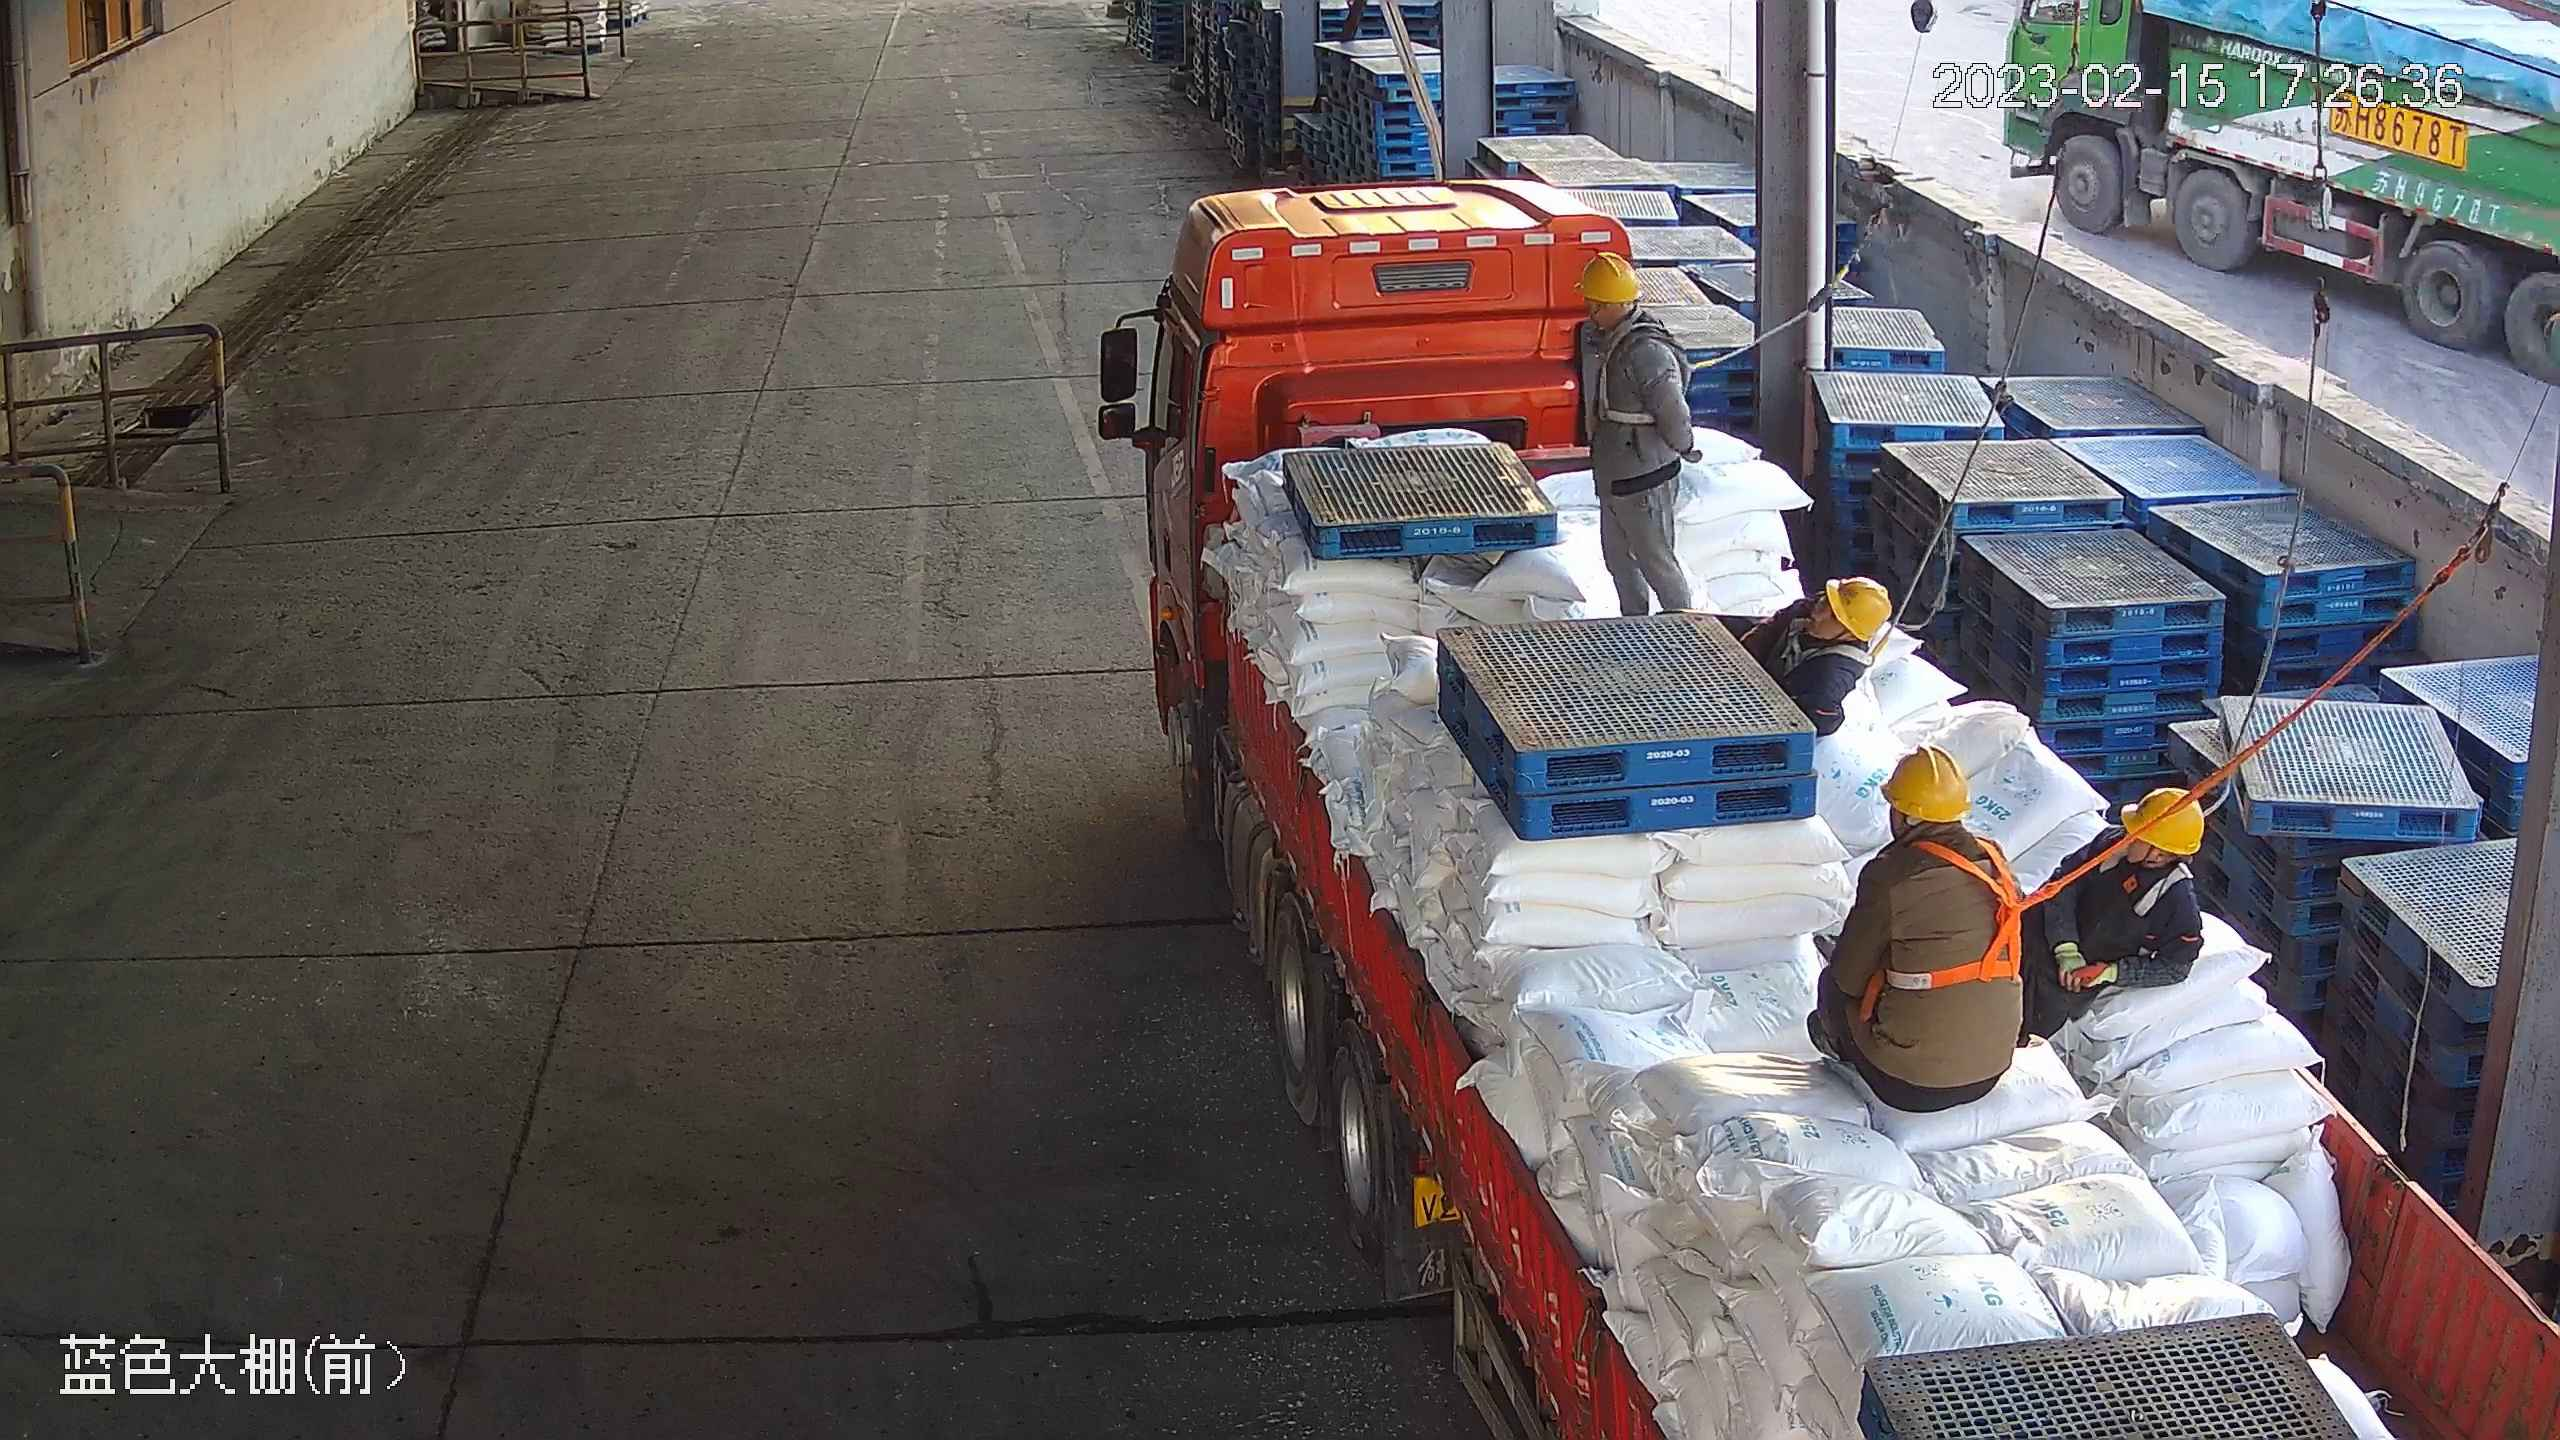belt: (1893, 844, 2053, 983), (1595, 327, 1695, 429), (2104, 858, 2197, 920), (1792, 632, 1865, 688)
head: (1848, 746, 2016, 899), (2072, 785, 2209, 915), (1572, 248, 1677, 379), (1777, 579, 1899, 693)
helmet: (1881, 746, 1974, 823), (2120, 788, 2207, 855), (1827, 571, 1893, 648), (1569, 250, 1642, 304)
people: (1814, 744, 2021, 1115), (1569, 250, 1706, 623), (2006, 788, 2207, 1029)
truck: (1090, 176, 2560, 1440)
